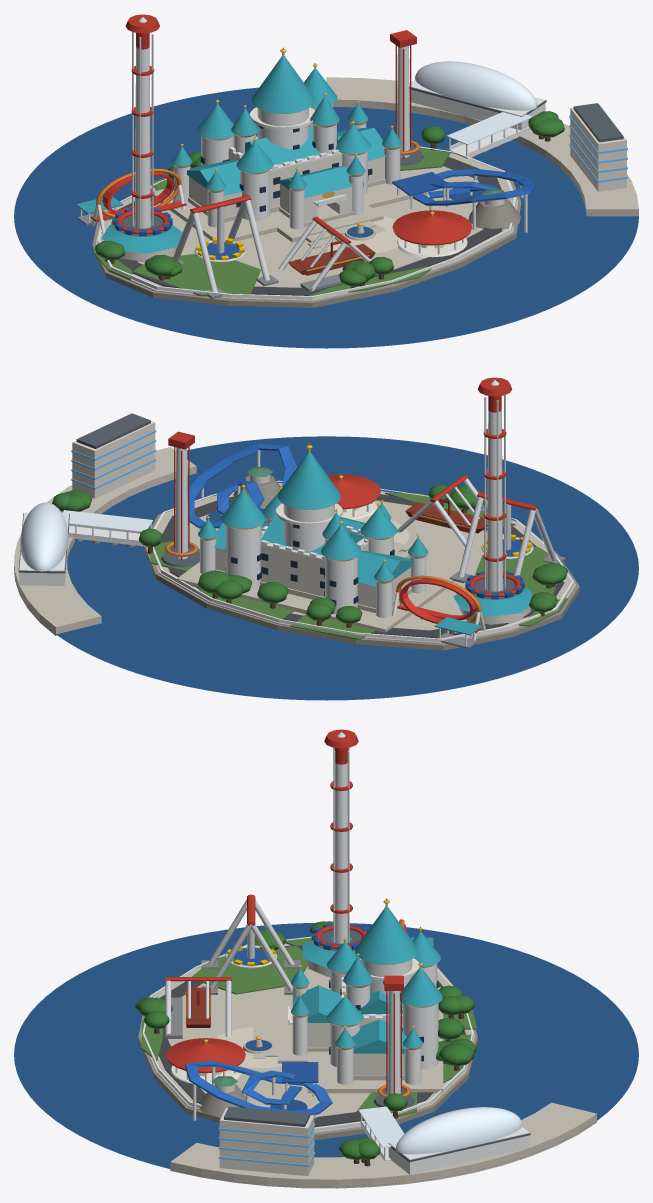
File: lotte-world-magic-island.glb
The picture shows the model from 3 angles, top to bottom: view 1: azimuth 30°, elevation 25°; view 2: azimuth 150°, elevation 25°; view 3: azimuth 270°, elevation 25°; orthographic projection.
Bounding box in the file's own units: 166 × 70 × 166.
